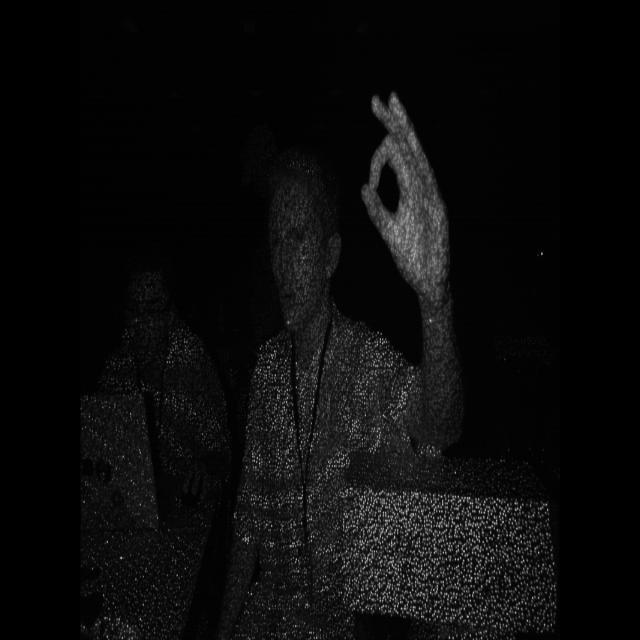F: (354, 62, 476, 326)
